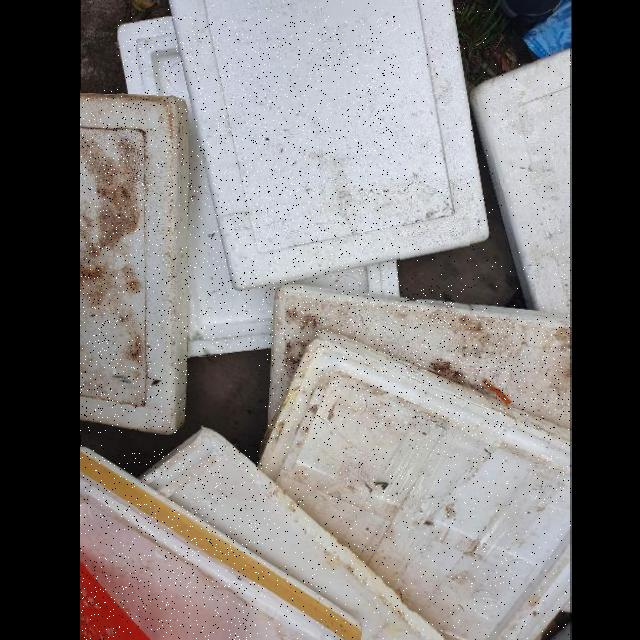styrofoam: (117, 16, 400, 356), (260, 331, 571, 640), (168, 1, 490, 289), (81, 445, 362, 640), (268, 285, 571, 429), (80, 90, 190, 434), (470, 47, 571, 316)
